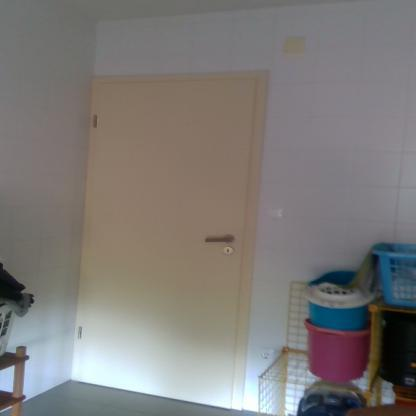door: (95, 84, 238, 408)
hinged: (74, 322, 83, 342), (91, 114, 100, 130)
lever: (199, 232, 235, 246)
